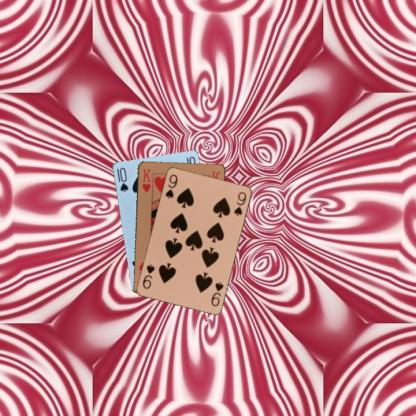10s: (114, 165, 129, 193)
9s: (162, 172, 178, 200), (208, 279, 224, 307)
Kh: (139, 166, 152, 193)
